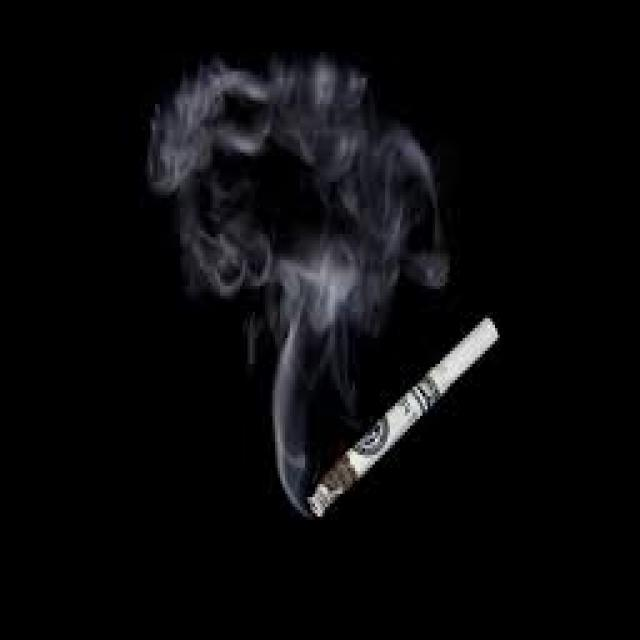rokok: (300, 313, 508, 521)
